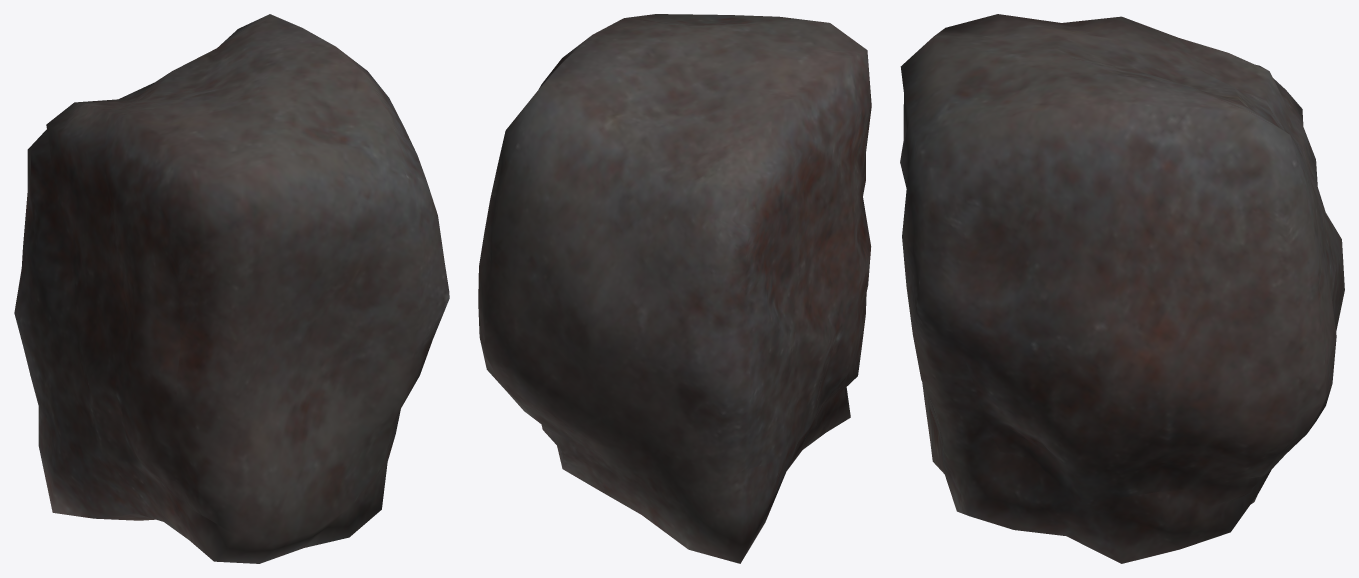
Rendered from asteroid5.dae.
3 renders of one model, left to right at view 1: azimuth 30°, elevation 25°; view 2: azimuth 150°, elevation 25°; view 3: azimuth 270°, elevation 25°, orthographic. The views are drawn at different scales.
Parts seen in each view (by area): view 1: Lp05; view 2: Lp05; view 3: Lp05.
Part boxes in pixels (bbox=[...]): Lp05: bbox=[14, 14, 449, 563]; Lp05: bbox=[478, 14, 871, 563]; Lp05: bbox=[900, 14, 1344, 563].
Bounding box in the file's own units: 5.62 × 7.62 × 6.36.
Materials: 1 (1 with a texture image).
